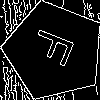F: (29, 26, 85, 72)
